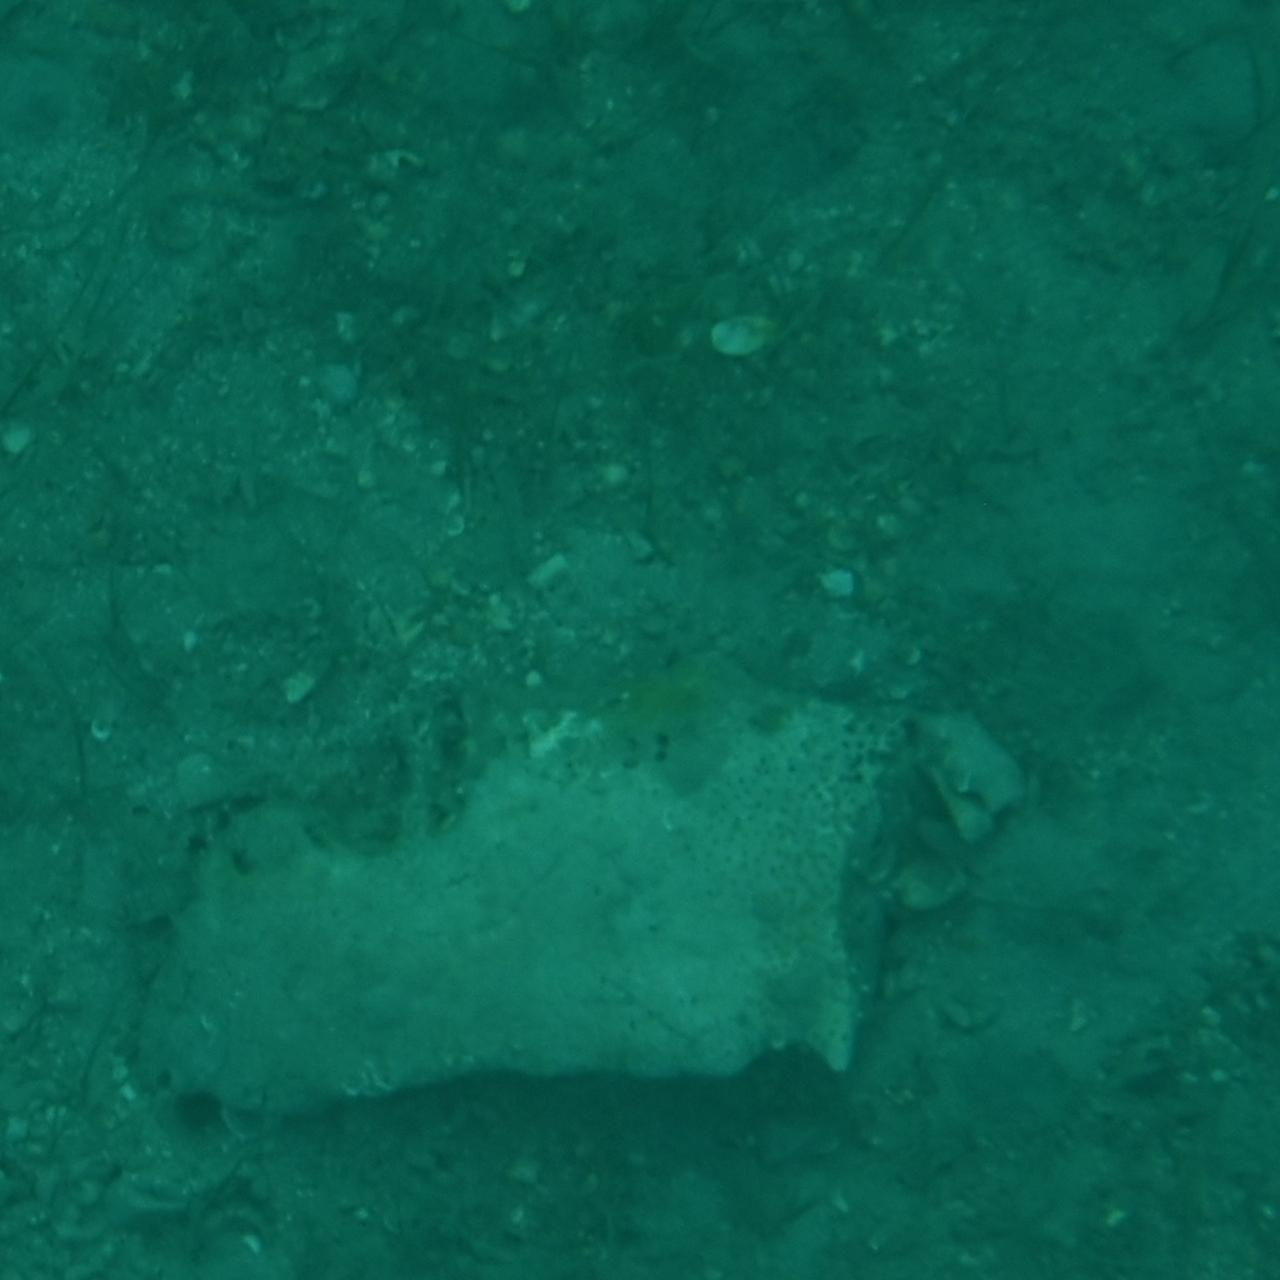Holothuria tubulosa: (348, 519, 932, 761)
